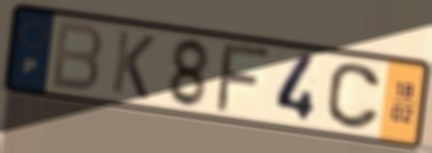4: (272, 49, 323, 128)
8: (166, 36, 213, 110)
B: (48, 18, 105, 95)
C: (324, 60, 383, 132)
F: (211, 41, 276, 116)
K: (108, 27, 158, 103)
